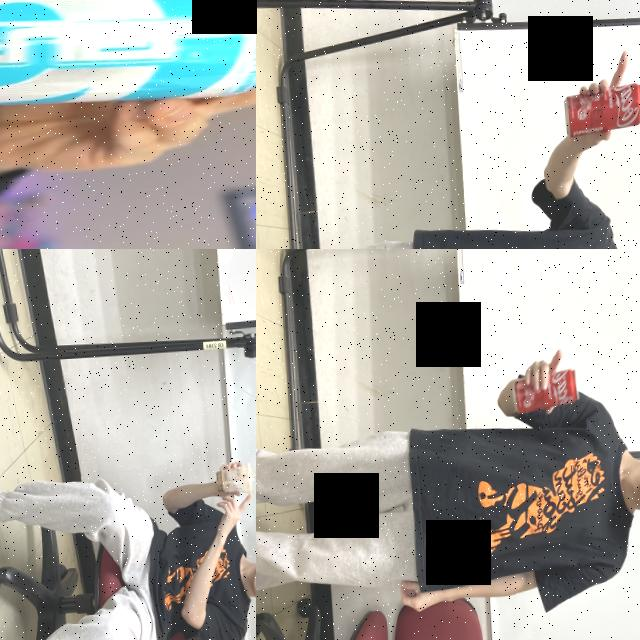can: (0, 0, 256, 127), (562, 83, 640, 137), (508, 366, 580, 414)
cup: (214, 461, 254, 499)
